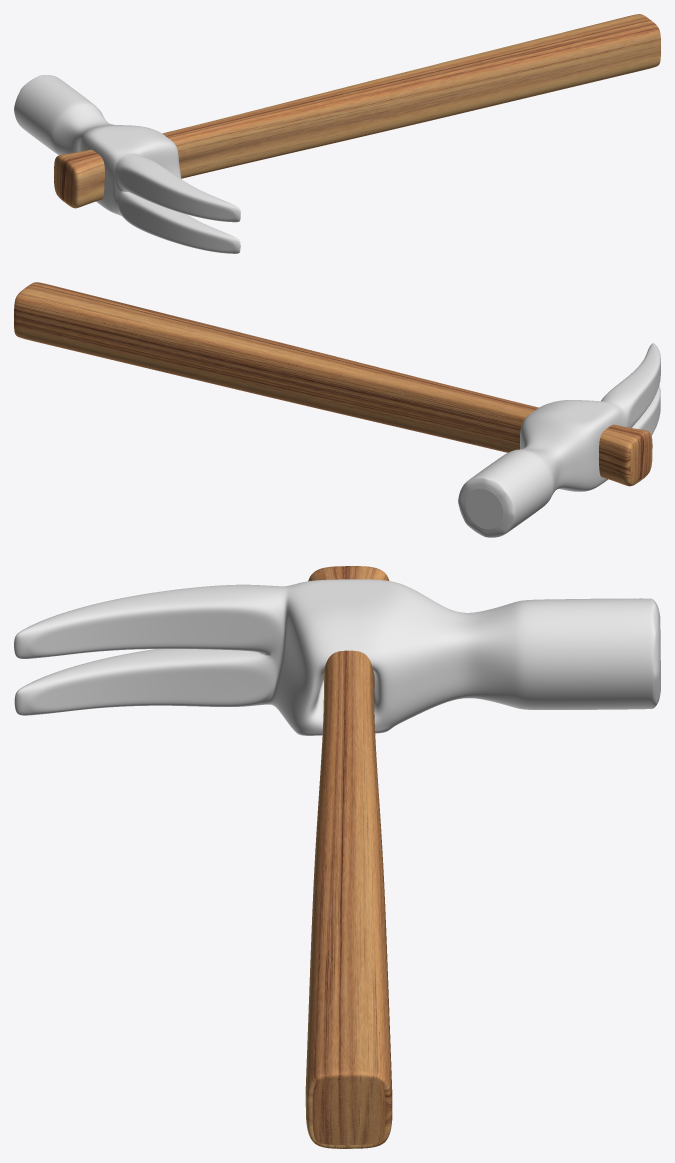
3 renders of one model, top to bottom at view 1: azimuth 30°, elevation 25°; view 2: azimuth 150°, elevation 25°; view 3: azimuth 270°, elevation 25°, orthographic. The views are drawn at different scales.
Visible parts, largest first — view 1: 立方体.001, 立方体; view 2: 立方体.001, 立方体; view 3: 立方体, 立方体.001.
Part boxes in pixels (x1,y1,x2,y2): 立方体.001: (54,14,660,208); 立方体: (14,75,240,253); 立方体.001: (14,282,652,486); 立方体: (458,343,660,537); 立方体: (14,579,660,735); 立方体.001: (305,566,392,1148).
Bounding box in the file's own units: 19.31 × 2.02 × 10.36.
2 materials, 1 textured.
